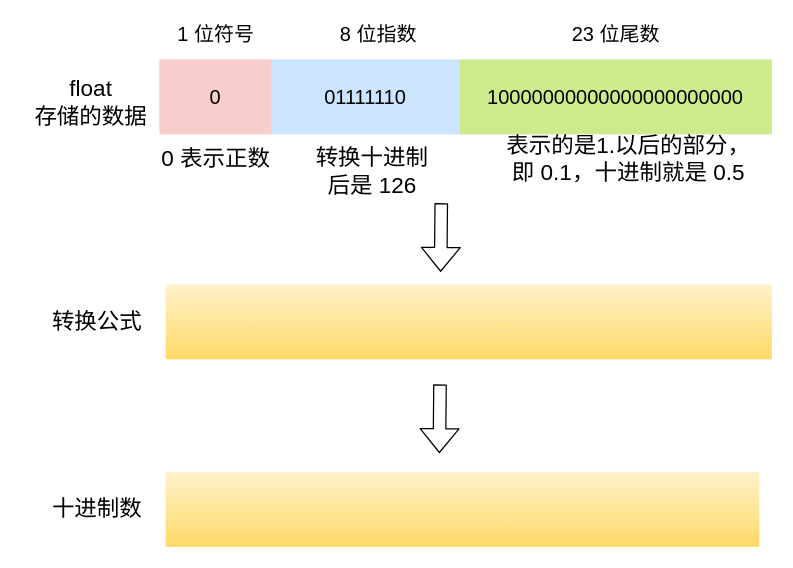
The diagram is 793 pixels wide and 568 high, and some of its shapes have lost their labels. Here are the shapes that lost their labels. From the top down, the centre of each, then its label:
At point 468,321: "(-1) 0 x ( 1 + 0.5 ) x 2 （126 - 127 ）".
At point 462,508: "1.5 x 2 -1 = 0.75".
